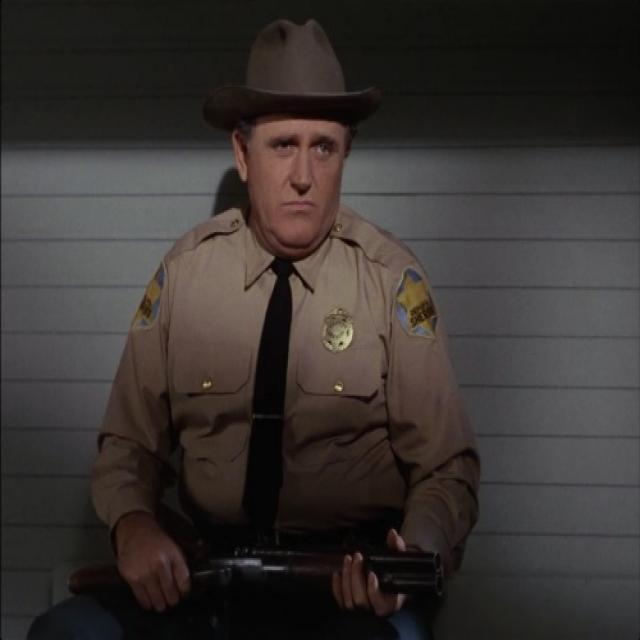rifle: (64, 542, 451, 623)
